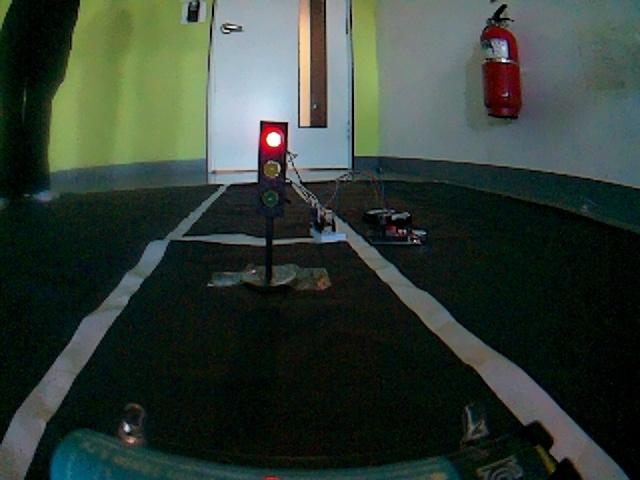go: (5, 332, 620, 480)
red_light: (159, 98, 367, 327)
